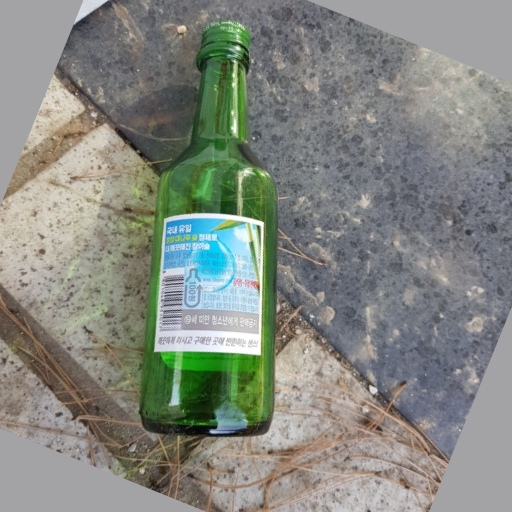Glass_0: (141, 15, 285, 438)
